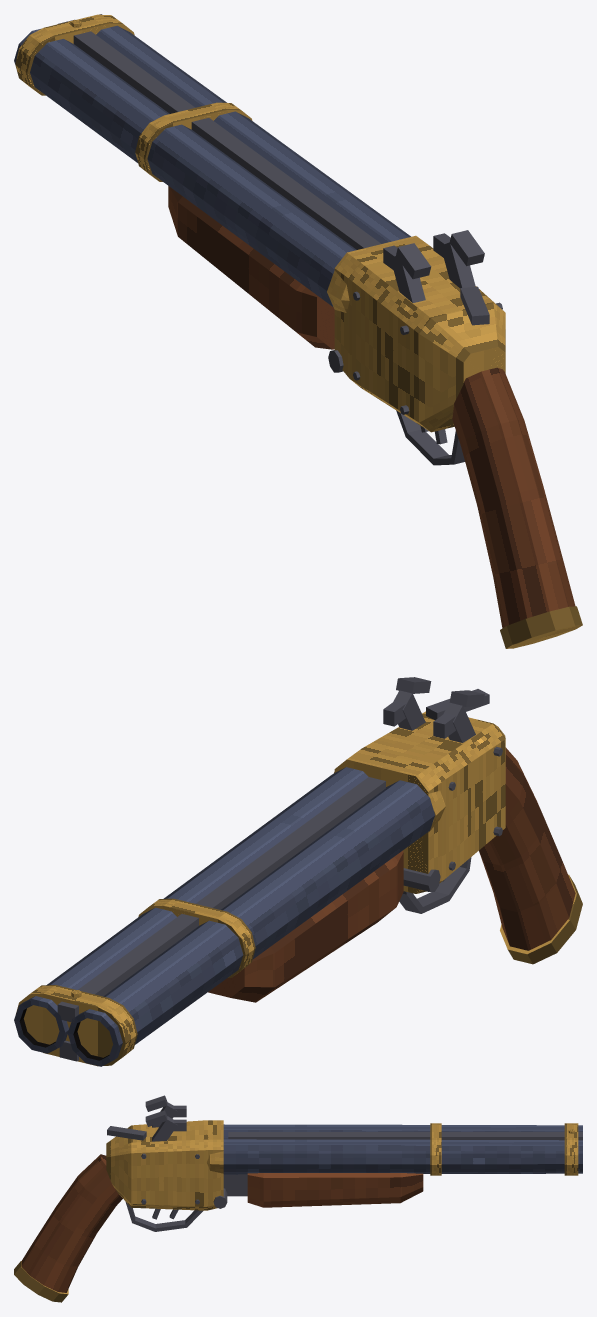
The model's file is shotgun.glb.
3 renders of one model, top to bottom at view 1: azimuth 30°, elevation 25°; view 2: azimuth 150°, elevation 25°; view 3: azimuth 270°, elevation 25°, orthographic. The views are drawn at different scales.
Parts seen in each view (by area): view 1: barrels, stock, hammer_R, hammer_L; view 2: barrels, stock, hammer_R, hammer_L; view 3: barrels, stock, hammer_R, hammer_L.
Boxes of the visible parts, <box> form: barrels: <box>14,14,410,349</box>; stock: <box>327,235,582,648</box>; hammer_R: <box>433,230,484,288</box>; hammer_L: <box>383,243,431,302</box>; barrels: <box>14,767,434,1066</box>; stock: <box>334,689,582,964</box>; hammer_R: <box>383,677,431,730</box>; hammer_L: <box>433,690,484,742</box>; barrels: <box>223,1123,582,1207</box>; stock: <box>14,1120,227,1302</box>; hammer_R: <box>145,1110,186,1141</box>; hammer_L: <box>145,1095,186,1127</box>.
Size of the model in its own units: 0.0638 by 0.1884 by 0.499.
7 materials, 5 textured.
